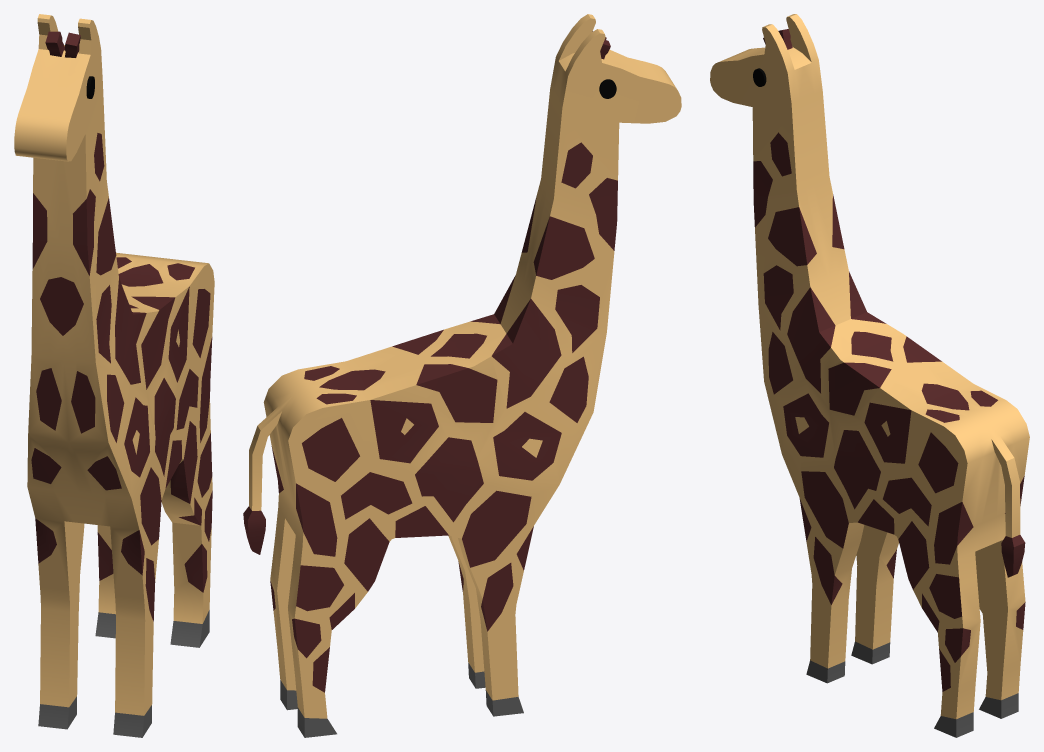
The model's file is giraffe.gltf.
3 renders of one model, left to right at view 1: azimuth 30°, elevation 25°; view 2: azimuth 150°, elevation 25°; view 3: azimuth 270°, elevation 25°, orthographic. The views are drawn at different scales.
Visible parts, largest first — view 1: Plane.131; view 2: Plane.131; view 3: Plane.131.
Boxes of the visible parts, left/top/right/bottom form: Plane.131: left=14, top=14, right=214, bottom=737; Plane.131: left=243, top=14, right=681, bottom=737; Plane.131: left=710, top=14, right=1029, bottom=737.
Bounding box in the file's own units: 1.08 × 2.31 × 1.08.
1 material, 1 textured.
